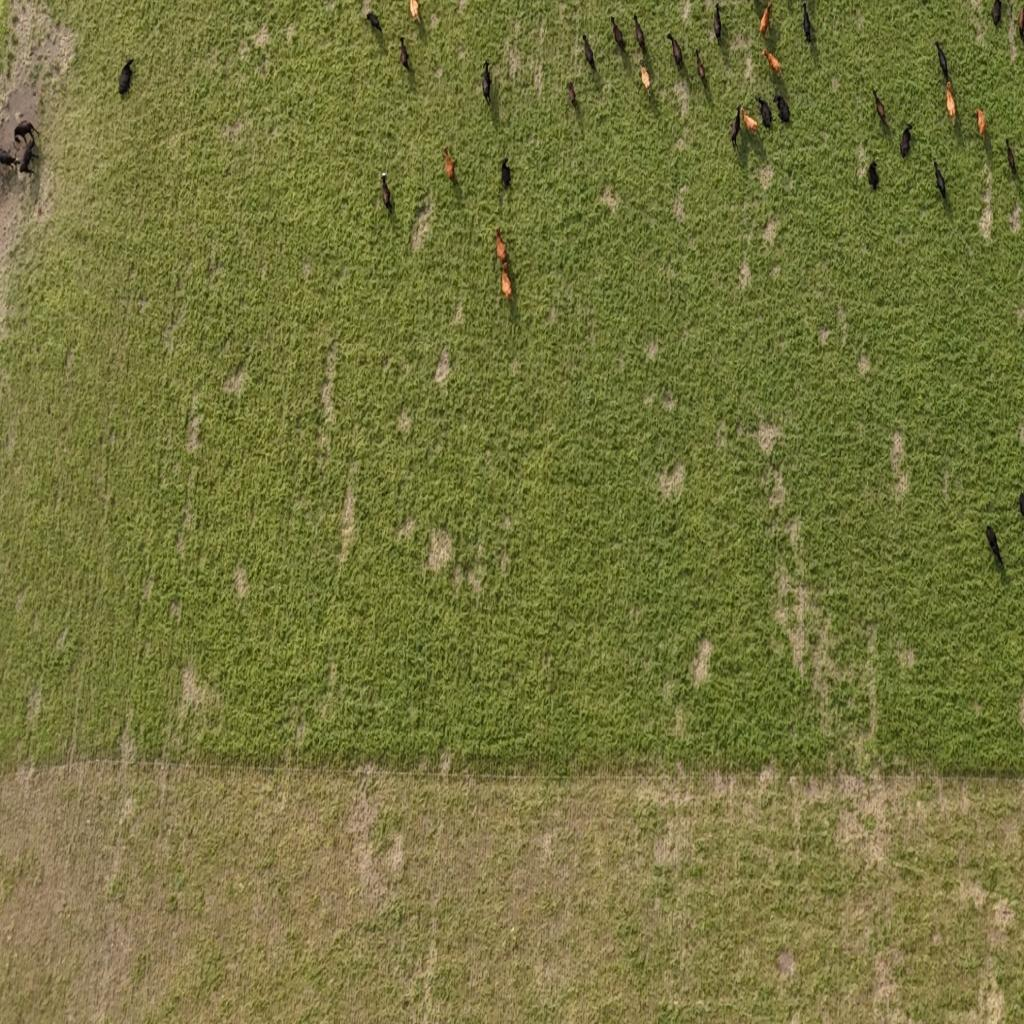cow: (480, 56, 498, 112), (12, 142, 40, 177), (985, 523, 1004, 569), (116, 55, 135, 96), (496, 266, 515, 307), (379, 169, 394, 214), (495, 227, 511, 268), (14, 120, 39, 146), (397, 34, 412, 76), (668, 32, 684, 71), (756, 94, 773, 130), (801, 0, 814, 47), (873, 87, 888, 127), (610, 16, 626, 53), (1004, 140, 1018, 182), (933, 160, 947, 202), (761, 47, 781, 76), (582, 31, 596, 72), (498, 156, 512, 196), (730, 104, 742, 150), (442, 146, 456, 184), (741, 106, 759, 135), (364, 8, 384, 34), (935, 41, 948, 81), (633, 14, 646, 54), (0, 147, 19, 174), (945, 79, 957, 121), (695, 47, 707, 85), (759, 2, 772, 37), (776, 93, 790, 125), (900, 124, 912, 158), (974, 107, 986, 140), (639, 62, 651, 94), (868, 157, 879, 191), (713, 2, 722, 42), (567, 80, 578, 109), (991, 0, 1002, 27), (410, 0, 420, 23), (1019, 5, 1024, 44), (1020, 491, 1024, 521)
